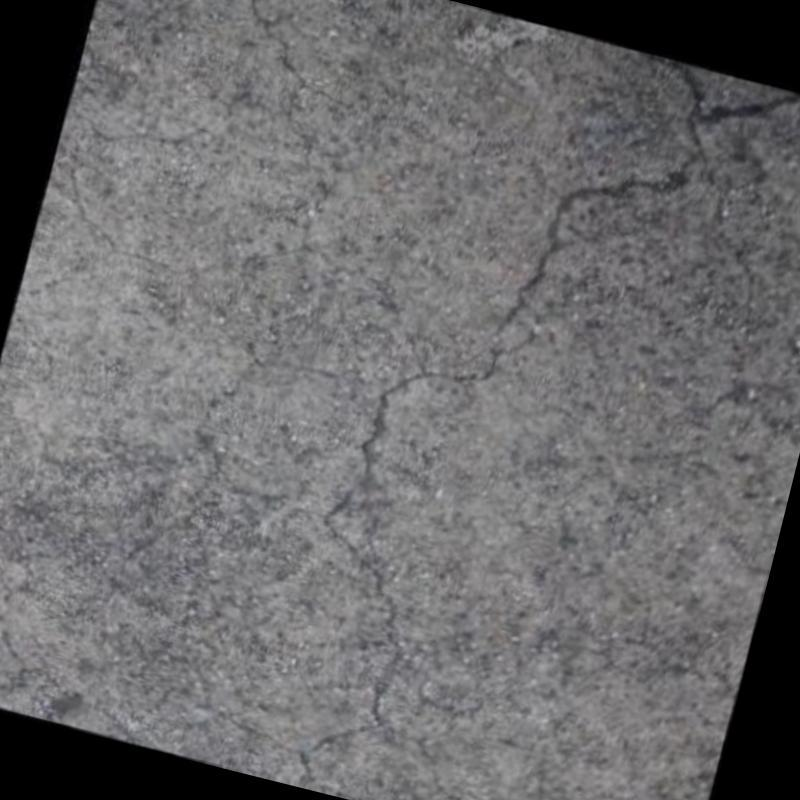crack: (282, 57, 800, 794)
